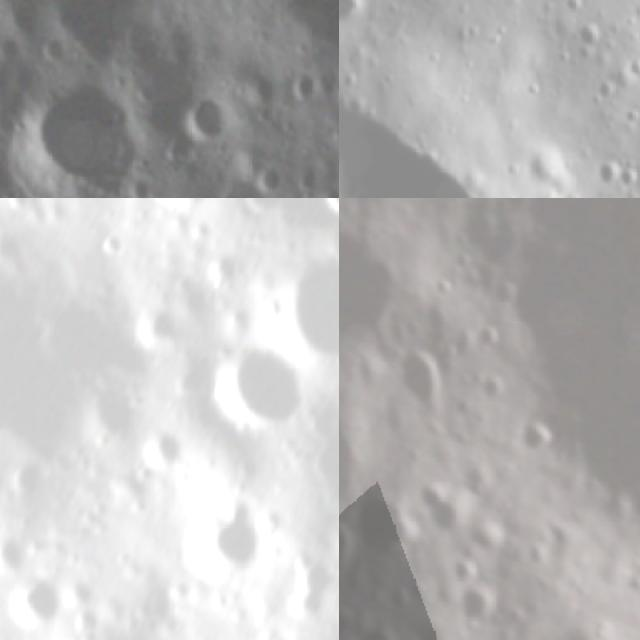crater: (0, 301, 144, 458), (339, 80, 488, 198), (30, 79, 136, 197), (203, 340, 320, 439), (268, 248, 339, 368), (173, 502, 267, 588), (285, 405, 339, 530), (43, 0, 152, 60), (344, 498, 423, 567), (4, 571, 71, 638), (392, 340, 446, 414), (411, 472, 476, 532), (279, 550, 330, 615), (339, 411, 368, 511), (166, 352, 223, 402), (169, 265, 212, 324), (130, 300, 181, 348), (186, 92, 228, 148), (457, 584, 502, 630), (135, 423, 188, 462), (9, 451, 52, 494), (513, 414, 557, 454), (474, 365, 511, 410), (0, 524, 31, 575), (440, 550, 479, 590), (208, 248, 246, 286), (234, 198, 288, 224), (0, 216, 25, 272), (291, 58, 322, 103), (469, 318, 507, 354), (210, 175, 266, 198), (68, 604, 108, 636), (339, 521, 362, 576), (339, 0, 376, 34), (591, 155, 622, 193), (247, 165, 283, 196), (144, 198, 212, 214), (427, 268, 458, 302), (96, 228, 128, 258), (0, 380, 15, 444), (355, 619, 400, 640)
